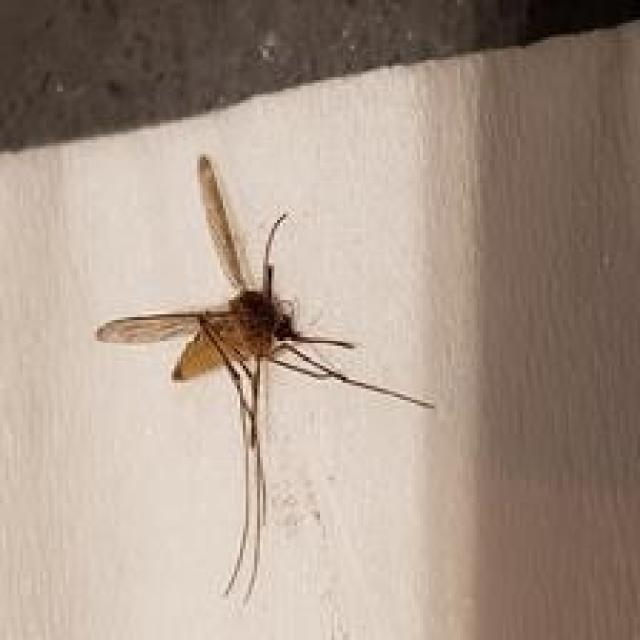Culex: (94, 153, 437, 604)
